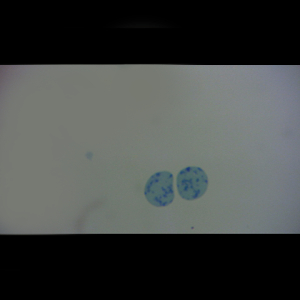aggregate reticulocyte: (143, 170, 176, 208), (175, 166, 209, 201)
